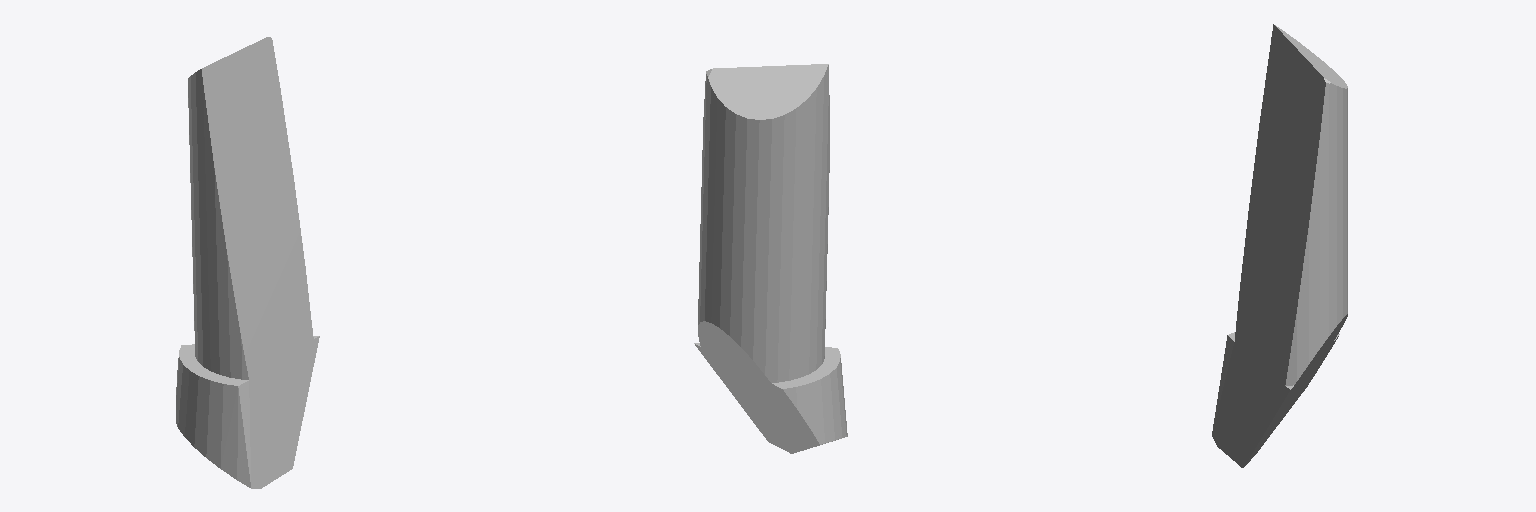
Rendered from torii_broken_020.obj.
3 views of the same model, side by side, from view 1: azimuth 30°, elevation 25°; view 2: azimuth 150°, elevation 25°; view 3: azimuth 270°, elevation 25° (orthographic).
Parts seen in each view (by area): view 1: 鳥居.001_cell.020_鳥居.001_cell.010; view 2: 鳥居.001_cell.020_鳥居.001_cell.010; view 3: 鳥居.001_cell.020_鳥居.001_cell.010.
Boxes of the visible parts, <box> form: 鳥居.001_cell.020_鳥居.001_cell.010: <box>176,37,319,488</box>; 鳥居.001_cell.020_鳥居.001_cell.010: <box>694,64,847,453</box>; 鳥居.001_cell.020_鳥居.001_cell.010: <box>1212,24,1347,467</box>.
Size of the model in its own units: 0.3977 by 1.12 by 0.3398.